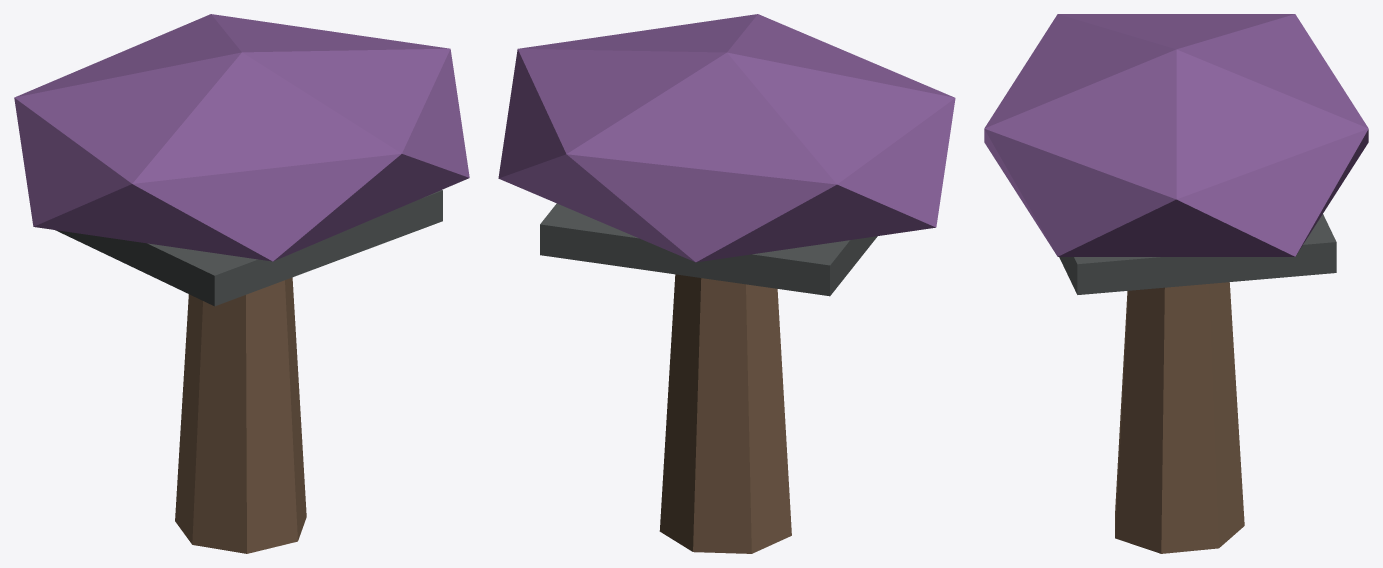
Rendered from df_mushroom_blocker_b.glb.
3 renders of one model, left to right at view 1: azimuth 30°, elevation 25°; view 2: azimuth 150°, elevation 25°; view 3: azimuth 270°, elevation 25°, orthographic.
Visible parts, largest first — view 1: cap, stalk, cap_shadow; view 2: cap, stalk, cap_shadow; view 3: cap, stalk, cap_shadow.
Part boxes in pixels (box(x1,y1,x2,y2)): cap: box(14, 14, 469, 261); stalk: box(175, 277, 306, 553); cap_shadow: box(55, 190, 442, 306); cap: box(498, 14, 955, 262); stalk: box(659, 274, 791, 553); cap_shadow: box(540, 203, 877, 296); cap: box(984, 14, 1368, 256); stalk: box(1115, 282, 1244, 553); cap_shadow: box(1059, 214, 1336, 294).
Size of the model in its own units: 1.14 by 1.23 by 0.9017.
